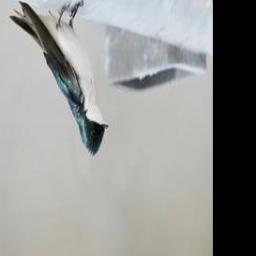Swallow: (8, 0, 111, 160)
